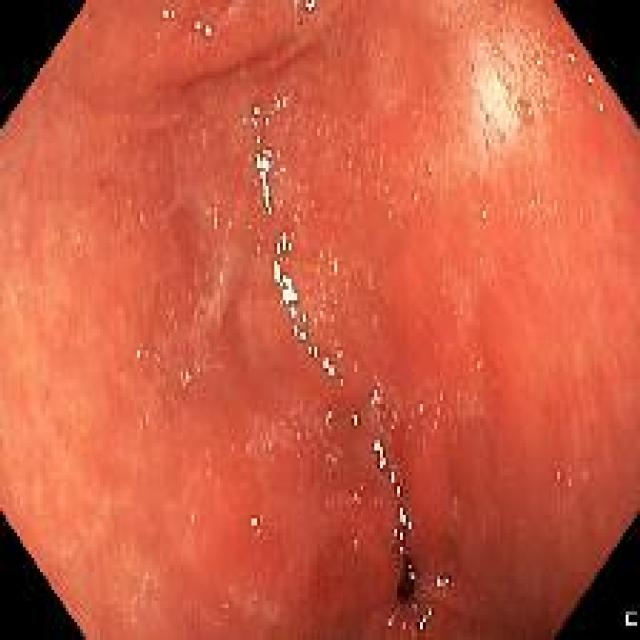bubbles: (446, 18, 569, 184), (514, 94, 536, 130), (376, 403, 402, 432), (534, 95, 556, 125), (582, 66, 602, 95), (528, 191, 547, 216), (409, 182, 422, 214), (540, 39, 558, 62), (489, 41, 506, 65), (477, 199, 492, 223), (566, 46, 583, 67), (464, 53, 478, 78), (420, 159, 436, 180), (595, 92, 608, 117), (248, 511, 262, 534), (553, 465, 568, 486), (531, 53, 547, 72), (492, 120, 505, 142), (473, 356, 488, 373), (249, 591, 261, 605)
contrast: (397, 562, 415, 599)
specularity: (256, 231, 345, 391), (249, 90, 295, 214), (371, 436, 412, 555), (192, 11, 217, 41), (290, 4, 316, 32), (246, 509, 265, 538), (417, 606, 435, 634), (158, 4, 178, 26), (348, 401, 361, 430), (434, 570, 452, 590), (369, 382, 382, 407), (384, 612, 399, 631), (406, 561, 415, 581), (480, 206, 487, 219)
